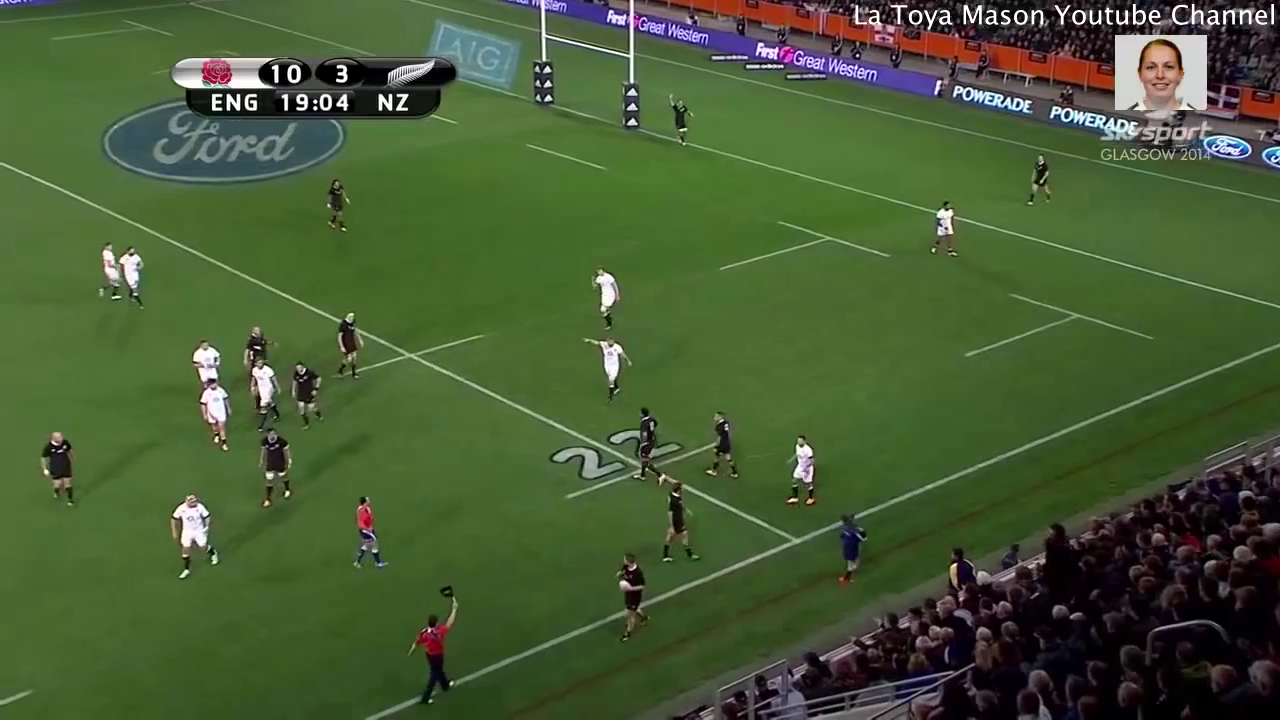ball: (615, 575, 635, 596)
player: (405, 586, 463, 708), (171, 489, 224, 583), (609, 552, 656, 649), (342, 488, 392, 572), (580, 332, 636, 405), (658, 477, 703, 563), (36, 427, 82, 511), (249, 426, 293, 504), (194, 376, 237, 452), (284, 362, 332, 429), (585, 263, 628, 332), (634, 403, 667, 488), (706, 408, 743, 483), (1017, 150, 1063, 209), (249, 356, 284, 426), (662, 89, 698, 154), (334, 310, 363, 389), (787, 433, 817, 508), (929, 200, 961, 265), (97, 241, 125, 309), (117, 244, 146, 305), (325, 176, 353, 234), (185, 340, 225, 380), (238, 325, 270, 364)
post: (528, 1, 644, 137)
